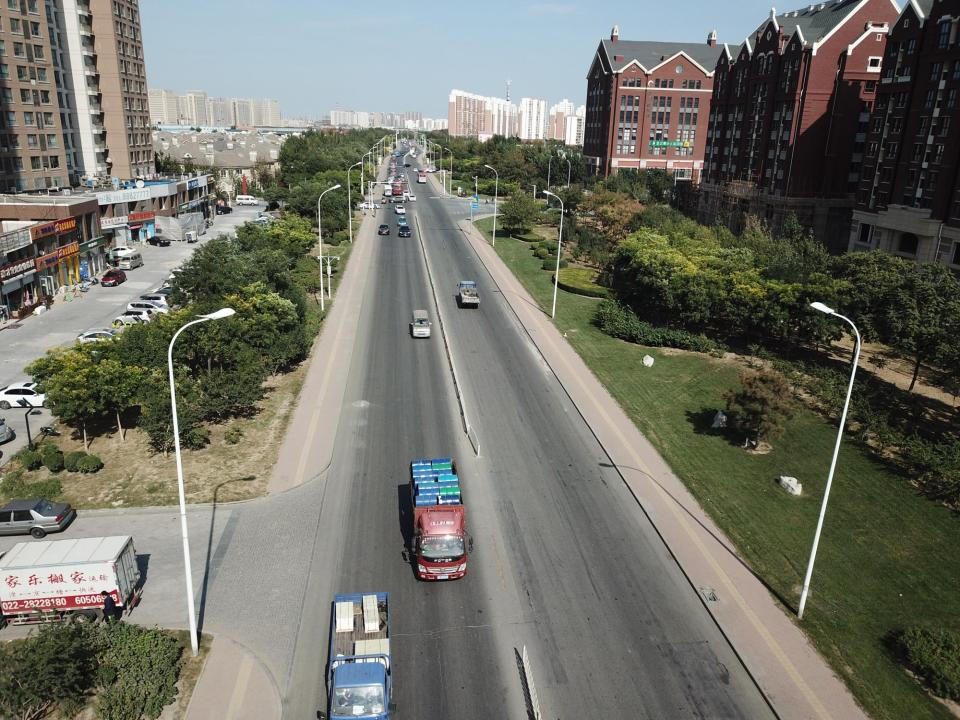bus: (416, 172, 427, 184)
car: (0, 499, 74, 540), (0, 382, 66, 409), (75, 326, 130, 348), (139, 288, 182, 305), (112, 309, 154, 326), (102, 245, 138, 259), (100, 269, 128, 287), (0, 417, 12, 445), (145, 234, 171, 246), (398, 224, 411, 238), (359, 201, 380, 209), (389, 195, 407, 203), (215, 206, 233, 214), (394, 204, 406, 215), (378, 224, 390, 235), (397, 216, 408, 226), (408, 194, 416, 202), (403, 190, 411, 198), (412, 168, 418, 173)
truck: (1, 534, 142, 628), (318, 591, 397, 720), (408, 458, 474, 582), (456, 280, 481, 308), (393, 182, 403, 196), (384, 184, 392, 195)
van: (126, 300, 171, 318), (410, 309, 432, 339), (134, 294, 174, 310), (118, 251, 144, 271), (236, 194, 260, 207)
